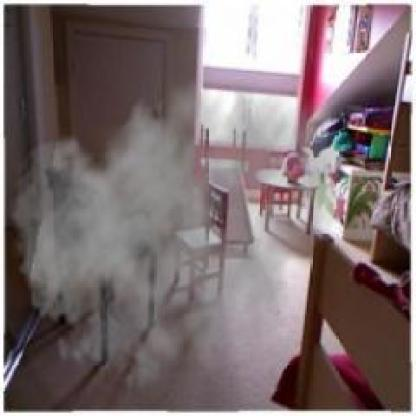Smoke: (4, 48, 346, 403)
